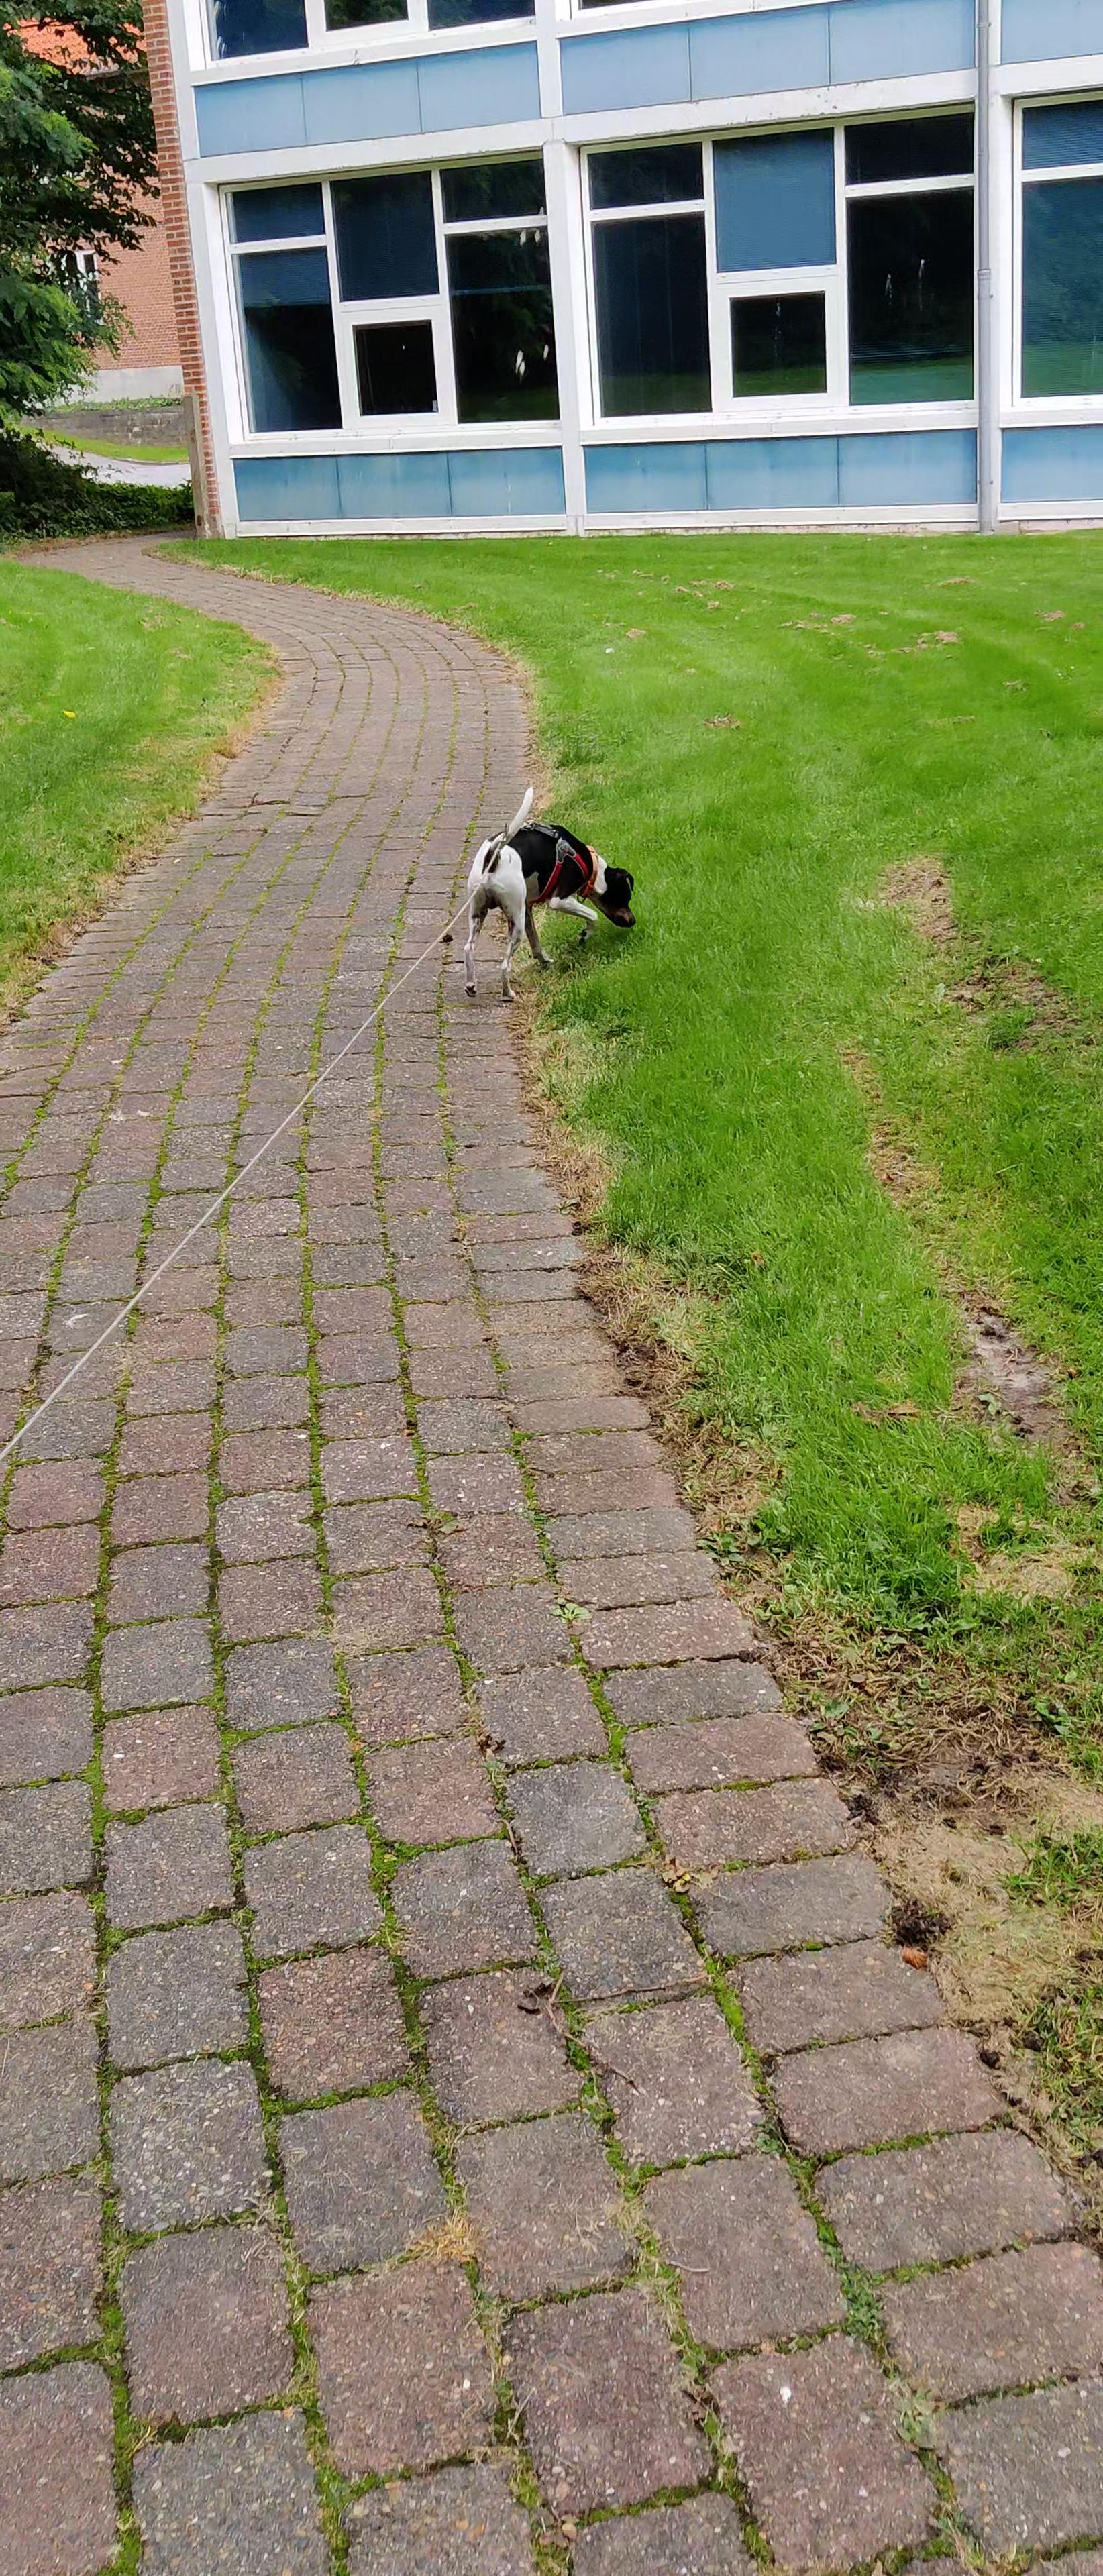Dog: (459, 784, 641, 1005)
